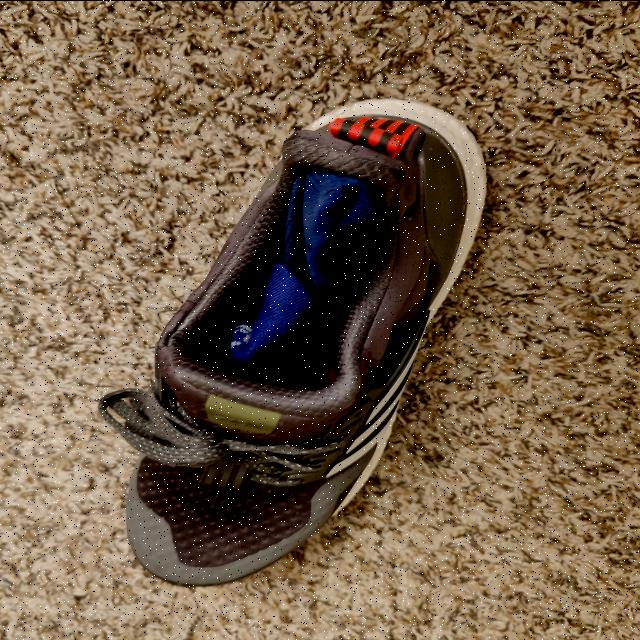black shoes: (132, 100, 488, 584)
